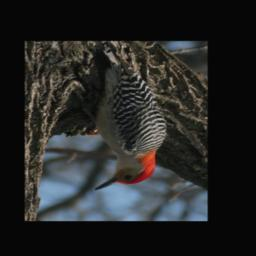Woodpecker: (79, 44, 169, 192)
